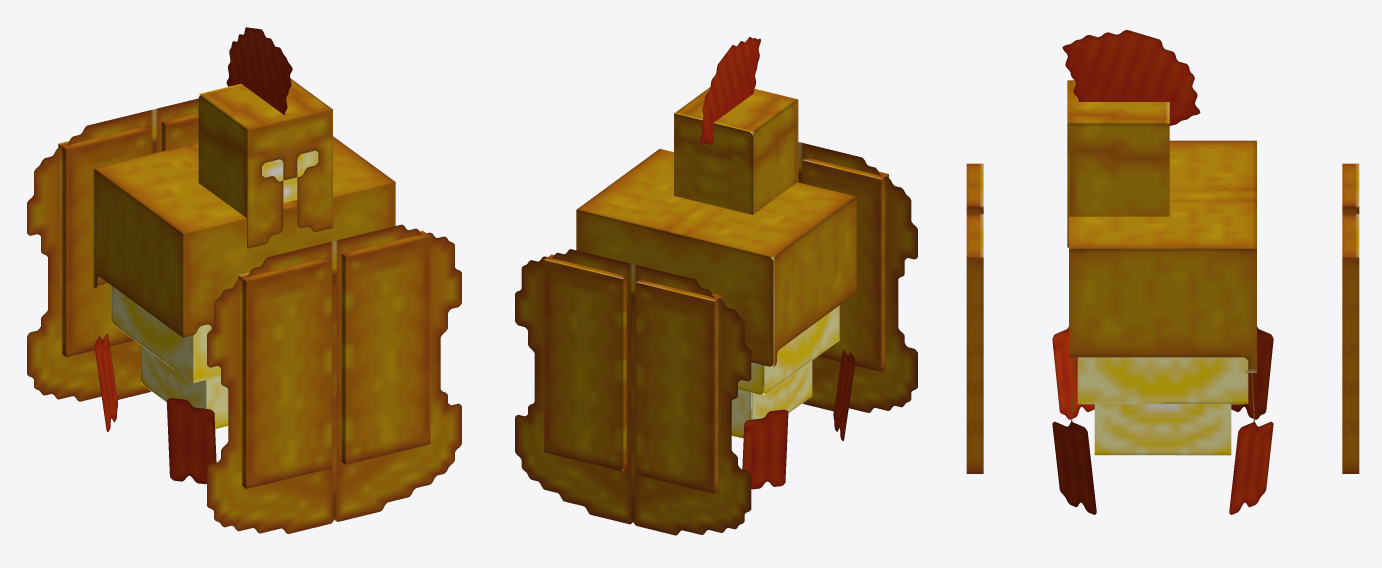
Rendered from aegis.obj.
3 views of the same model, side by side, from view 1: azimuth 30°, elevation 25°; view 2: azimuth 150°, elevation 25°; view 3: azimuth 270°, elevation 25° (orthographic). The views are drawn at different scales.
Visible parts, largest first — view 1: ShieldLowerRight01, ShieldLowerLeft01, Shoulders, ShieldLowerLeft02, Helm, Body, ShieldUpperRight01, ShieldLowerRight02, ShieldUpperLeft02, Head; view 2: Shoulders, ShieldLowerLeft02, ShieldLowerRight02, ShieldLowerRight01, Helm, Body, ShieldUpperLeft02, ShieldUpperRight01; view 3: Shoulders, Helm, Body, ShieldLowerLeft01, ShieldLowerRight02, ShieldUpperLeft01, ShieldUpperRight02, ShieldUpperRight01, ShieldUpperLeft02, ShieldLowerLeft02, ShieldLowerRight01.
Boxes of the visible parts, left/top/right/bottom form: ShieldLowerRight01: left=207, top=241, right=334, bottom=533; ShieldLowerLeft01: left=334, top=224, right=461, bottom=521; Shoulders: left=93, top=136, right=395, bottom=352; ShieldLowerLeft02: left=27, top=109, right=154, bottom=401; Helm: left=198, top=27, right=332, bottom=248; Body: left=111, top=285, right=228, bottom=429; ShieldUpperRight01: left=166, top=398, right=216, bottom=484; ShieldLowerRight02: left=154, top=98, right=198, bottom=152; ShieldUpperLeft02: left=94, top=334, right=117, bottom=431; Head: left=262, top=150, right=318, bottom=202; Shoulders: left=576, top=149, right=856, bottom=367; ShieldLowerLeft02: left=633, top=264, right=751, bottom=535; ShieldLowerRight02: left=515, top=249, right=632, bottom=524; ShieldLowerRight01: left=799, top=142, right=917, bottom=412; Helm: left=674, top=37, right=798, bottom=214; Body: left=731, top=256, right=839, bottom=438; ShieldUpperLeft02: left=742, top=409, right=788, bottom=489; ShieldUpperRight01: left=833, top=350, right=855, bottom=440; Shoulders: left=1069, top=140, right=1256, bottom=422; Helm: left=1062, top=30, right=1200, bottom=247; Body: left=1077, top=357, right=1248, bottom=455; ShieldLowerLeft01: left=966, top=214, right=983, bottom=473; ShieldLowerRight02: left=1342, top=214, right=1359, bottom=473; ShieldUpperLeft01: left=1052, top=421, right=1096, bottom=514; ShieldUpperRight02: left=1229, top=421, right=1273, bottom=514; ShieldUpperRight01: left=1052, top=326, right=1094, bottom=419; ShieldUpperLeft02: left=1231, top=326, right=1273, bottom=419; ShieldLowerLeft02: left=1342, top=163, right=1359, bottom=213; ShieldLowerRight01: left=966, top=163, right=983, bottom=213.
Size of the model in its own units: 1.17 by 1.92 by 1.5.
